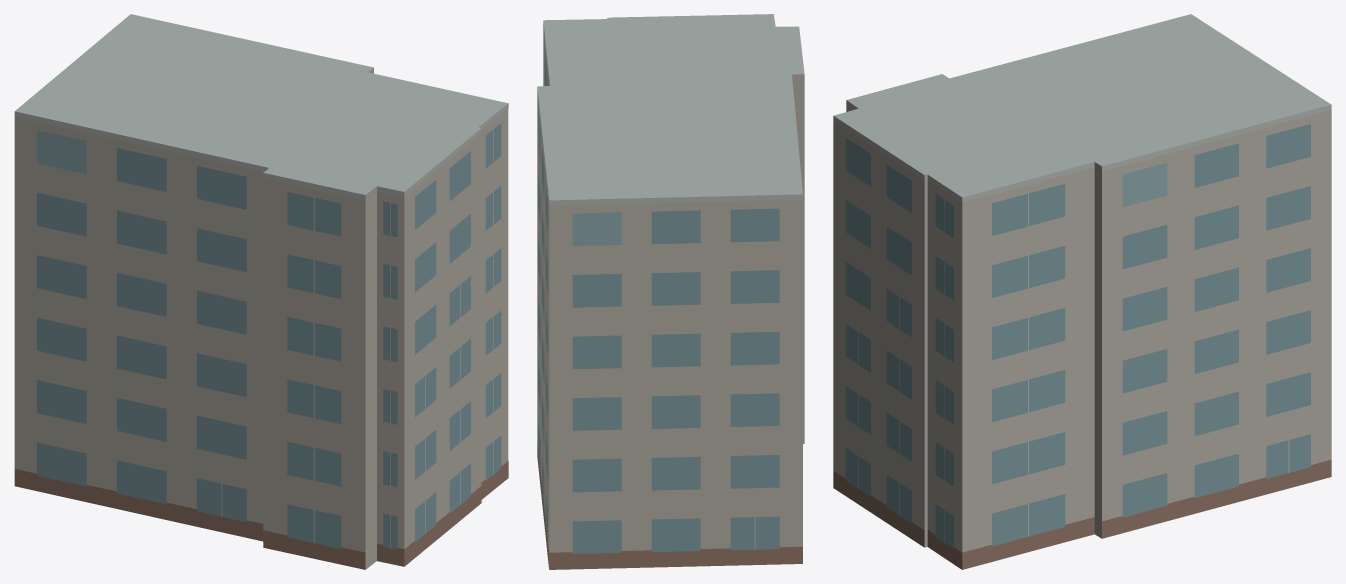
File: survey-upis-32587973.glb
The picture shows the model from 3 angles, left to right: view 1: azimuth 30°, elevation 25°; view 2: azimuth 150°, elevation 25°; view 3: azimuth 270°, elevation 25°; orthographic projection.
Parts seen in each view (by area): view 1: survey-upis-32587973.tmp; view 2: survey-upis-32587973.tmp; view 3: survey-upis-32587973.tmp.
Boxes of the visible parts, x1,y1,x2,y2 form: survey-upis-32587973.tmp: (14,14,508,569); survey-upis-32587973.tmp: (537,14,804,569); survey-upis-32587973.tmp: (833,14,1331,569).
Size of the model in its own units: 18.19 by 17.2 by 20.86.
